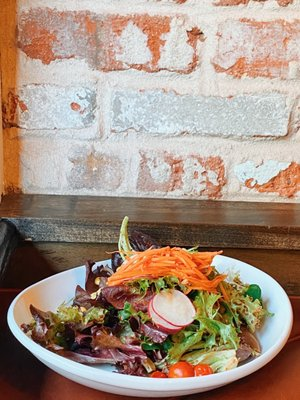sushi: (6, 258, 299, 399)
